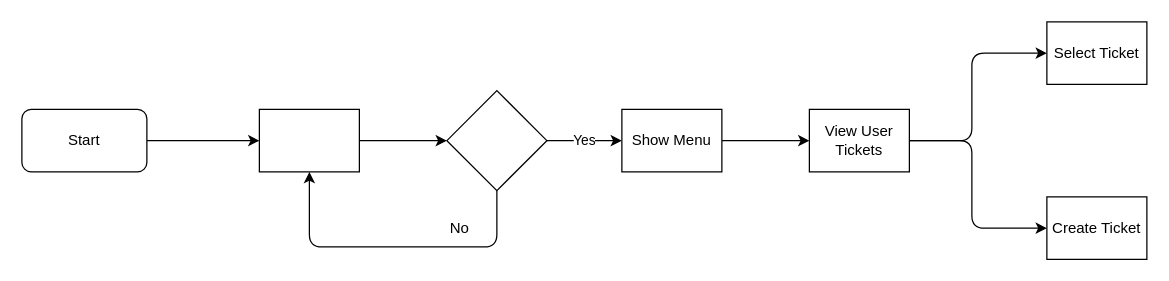
The diagram is 1169 pixels wide and 281 high, and some of its shapes have lost their labels. Each missing label, with the centre of its shape:
Correct data?: point 496,140
Login: point 308,140
